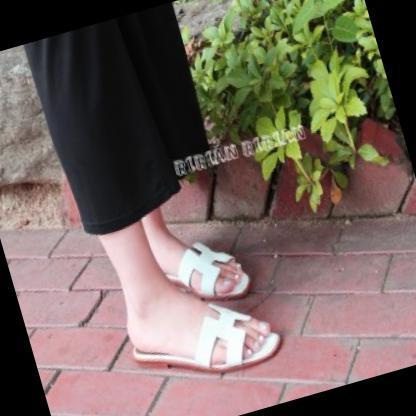no_safety-shoe: (100, 256, 293, 415), (139, 215, 262, 326)
